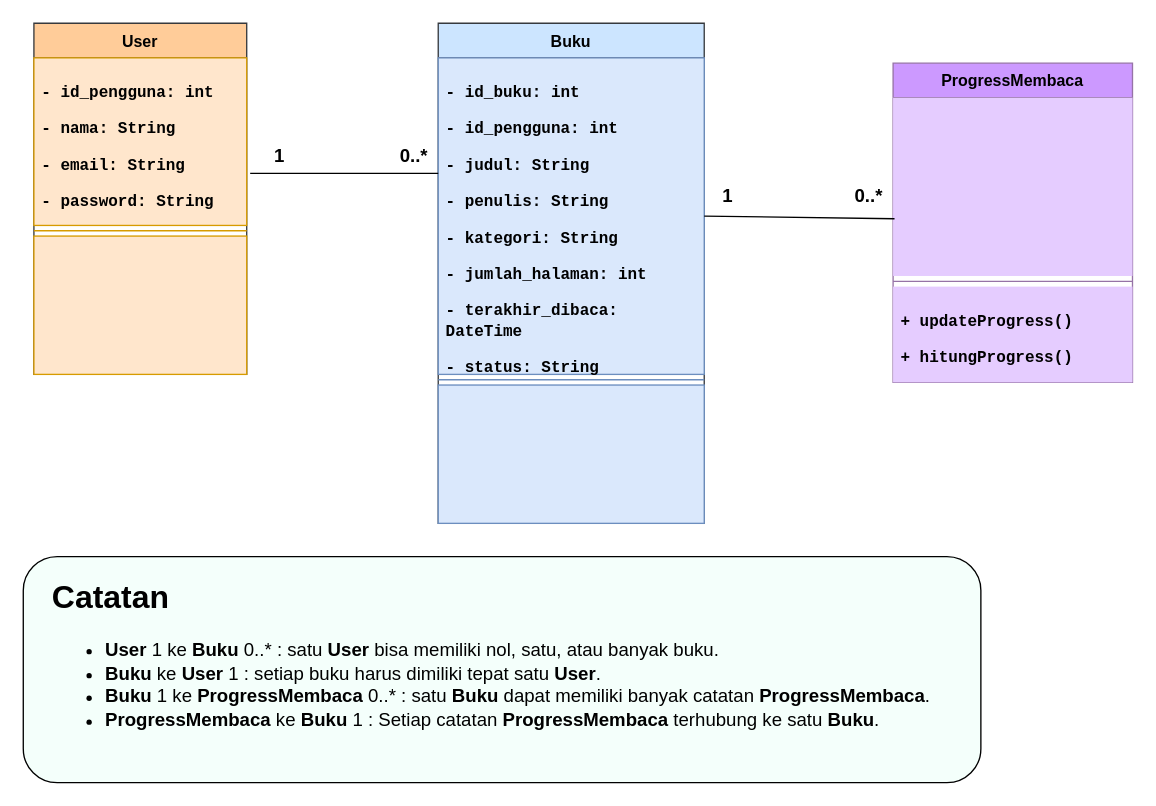
Image size: 1156x806. Some labels were removed from this diagram. Each missing label, with the centre of its shape:
+ register() + login() + logout(): point (140, 304)
+ tambahBuku() + ubahBuku() + hapusBuku(): point (570, 453)
- id_progress: int - id_buku: int - halaman_terakhir: int - tanggal_mulai: Date: point (1012, 186)
